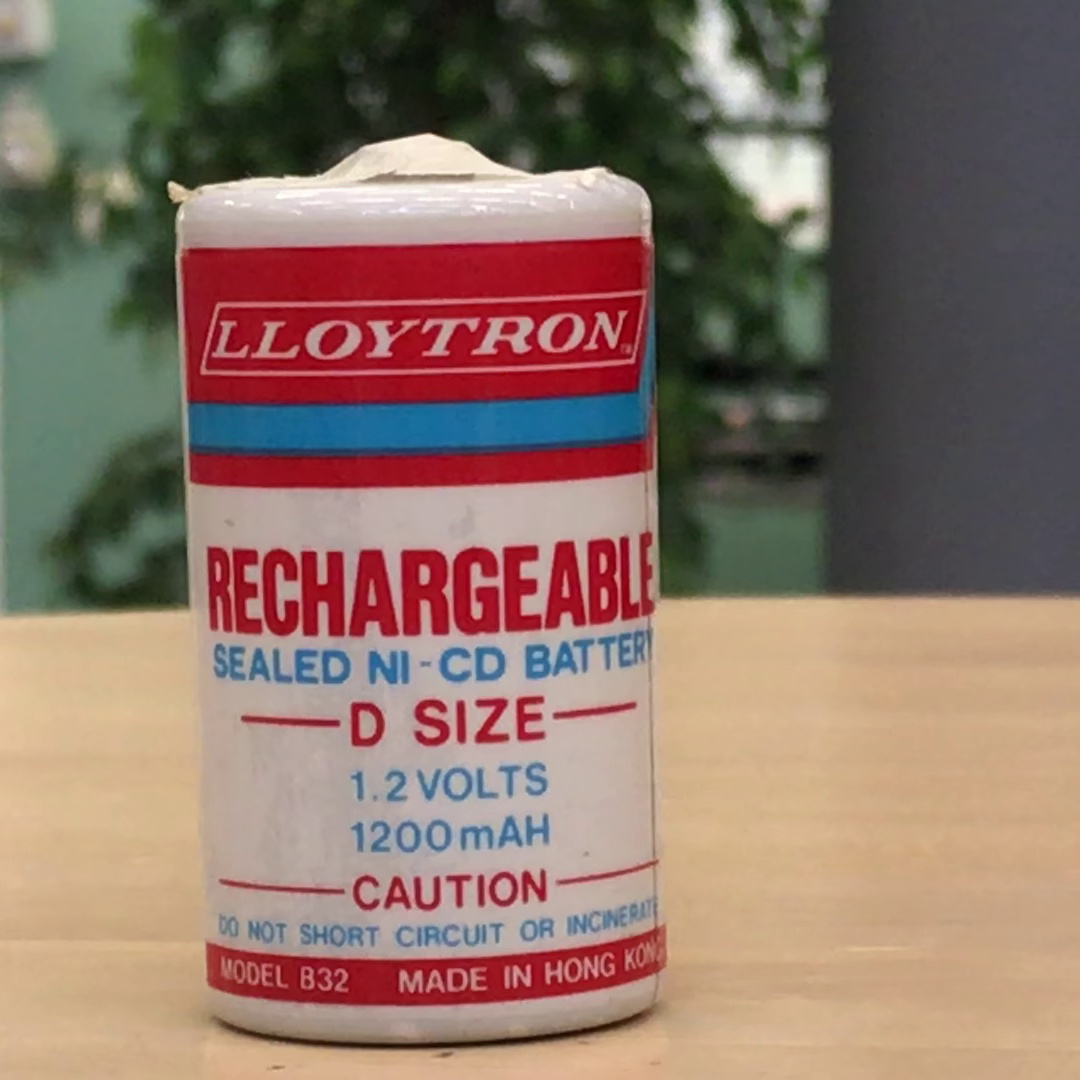keyword: (358, 637, 510, 694), (341, 759, 449, 810)
